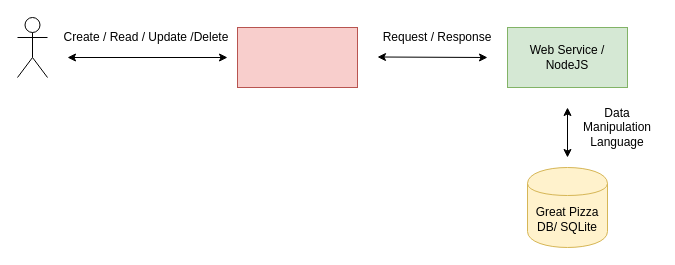
Some shapes in this 675 by 265 pixel diagram are drawn without their labels. Here are the shapes that lost their labels. From the top down, the centre of each, then its label:
At [32,47]: "User".
At [297,57]: "Web Application / Angular 9".
